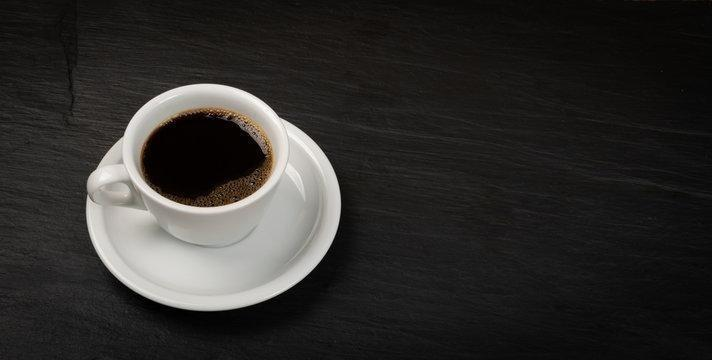cup-handle: (87, 82, 291, 248)
